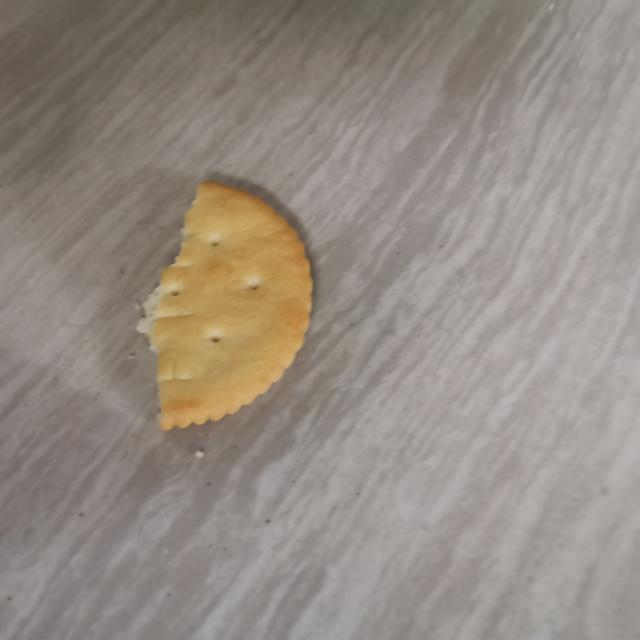Broken: (135, 180, 314, 432)
